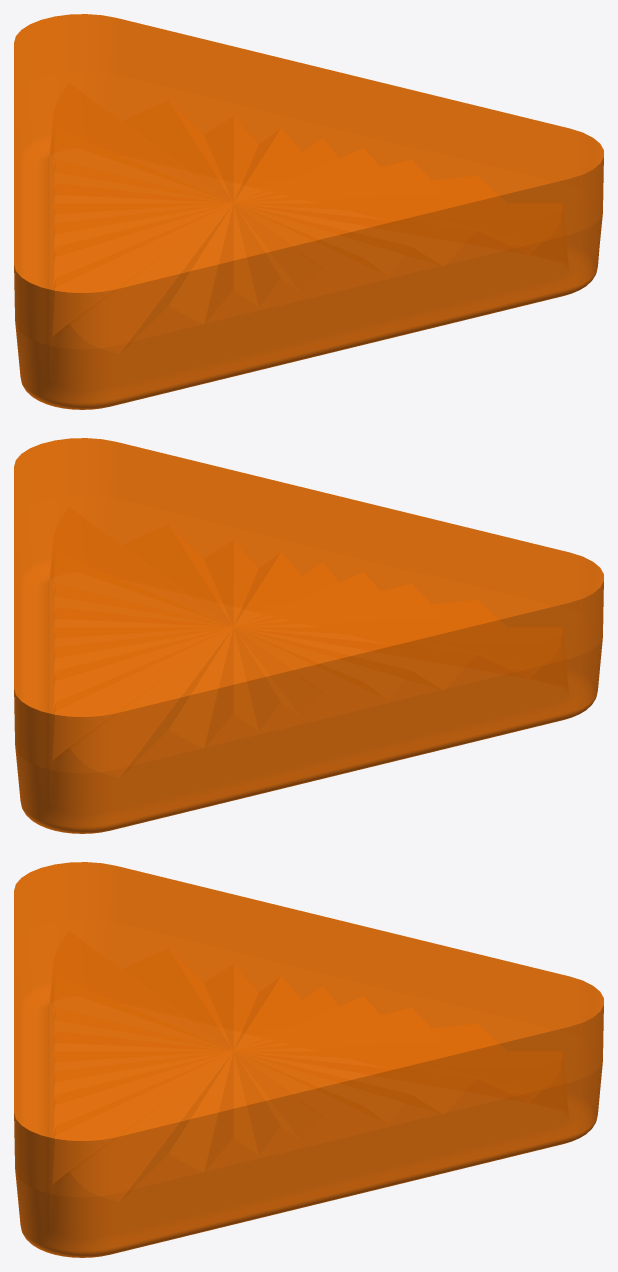
File: Insert 1.5' Triangle, Starbust (PI-1316TOS).fbx
The picture shows the model from 3 angles, top to bottom: view 1: azimuth 30°, elevation 25°; view 2: azimuth 150°, elevation 25°; view 3: azimuth 270°, elevation 25°; orthographic projection.
Visible parts, largest first — view 1: Insert 1.5' Triangle, Starbust (PI-1316TOS); view 2: Insert 1.5' Triangle, Starbust (PI-1316TOS); view 3: Insert 1.5' Triangle, Starbust (PI-1316TOS).
Boxes of the visible parts, x1,y1,x2,y2 form: Insert 1.5' Triangle, Starbust (PI-1316TOS): (14,14,603,409); Insert 1.5' Triangle, Starbust (PI-1316TOS): (14,438,603,833); Insert 1.5' Triangle, Starbust (PI-1316TOS): (14,862,603,1257).
Bounding box in the file's own units: 3.07 × 0.635 × 2.74.
